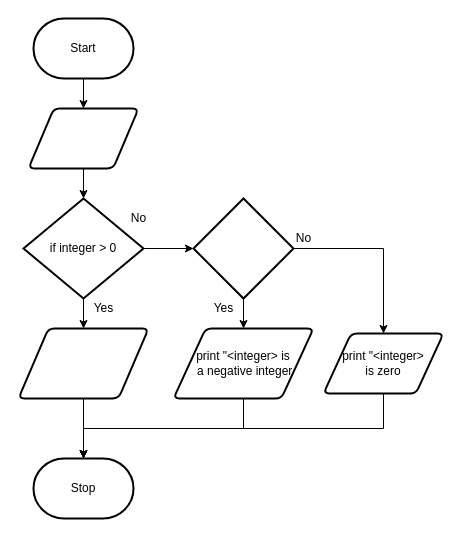
This 461x536 diagram has some shape labels left out. Here are the shapes that lost their labels. From the top down, the centre of each, then its label:
the point at 83,138: Ask user for integer
the point at 243,248: if integer < 0
the point at 83,363: print "<integer> is a positive integer
